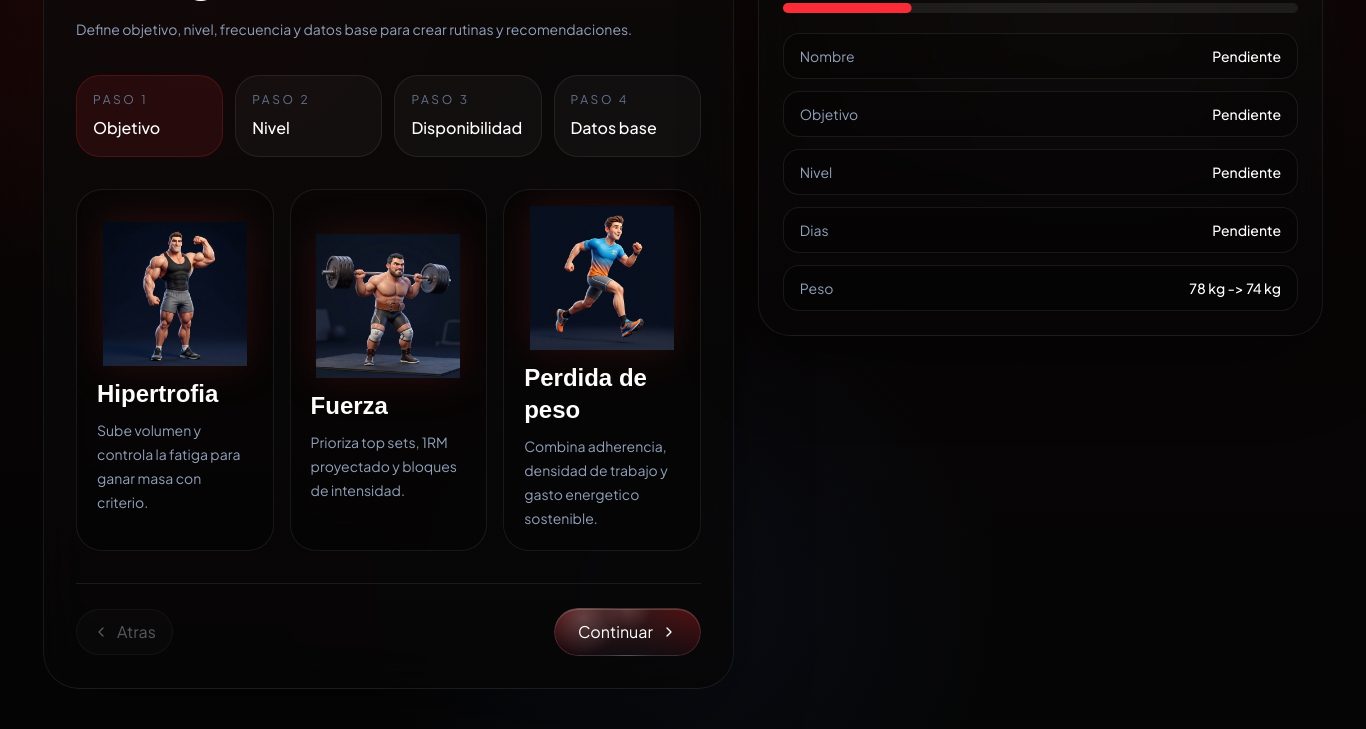
SigmaFit onboarding flow › shows validations when required onboarding fields are missing
(page scrolled)
Click the button "Continuar".
click(627, 632)  # box [554, 608, 701, 656]
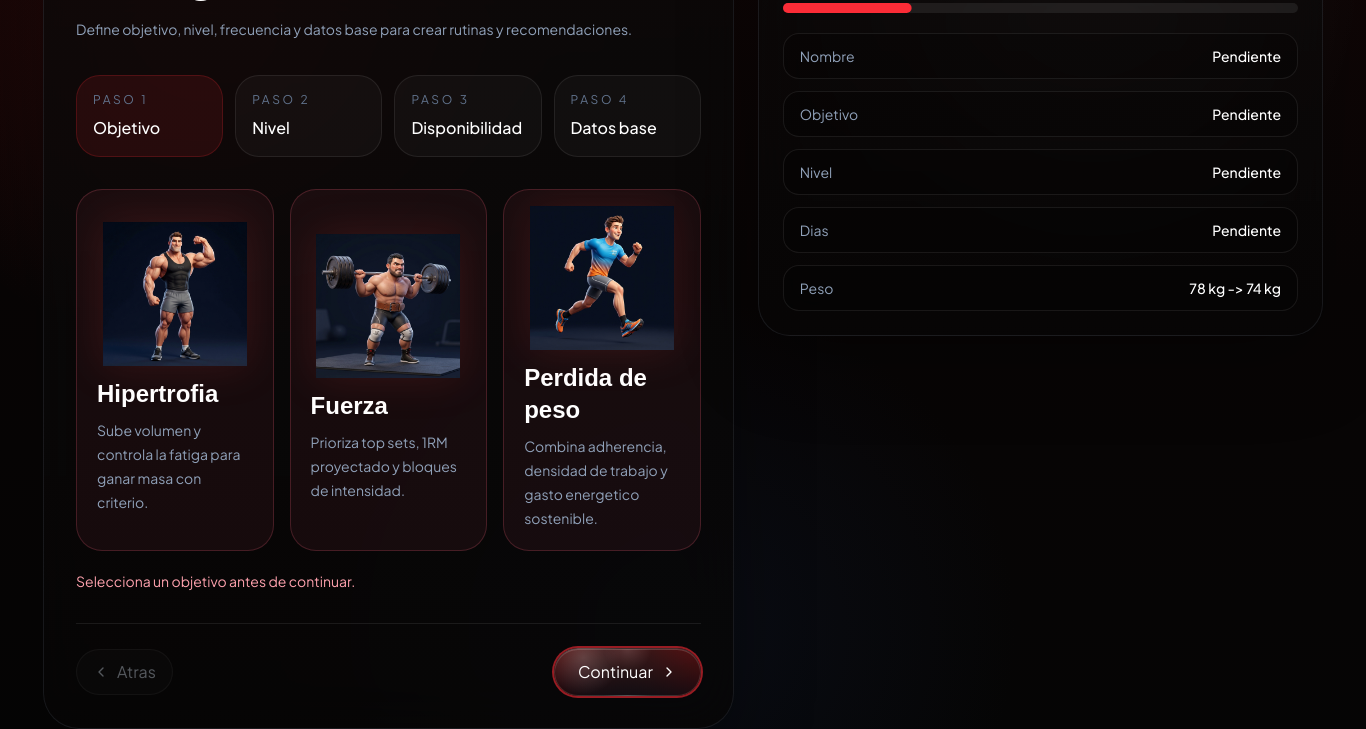
Check: the text "Selecciona un objetivo antes de continuar." is shown, box [76, 572, 355, 590]
